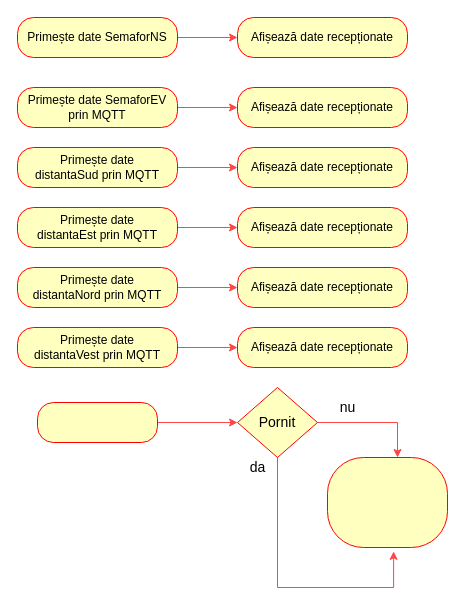
This 465x613 diagram has some shape labels left out. Here are the shapes that lost their labels. From the top down, the centre of each, then its label:
[97,422]: Întrerupător Power
[387,502]: Trimite Date prin MQTT
